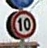limite 10: (10, 10, 36, 38)
